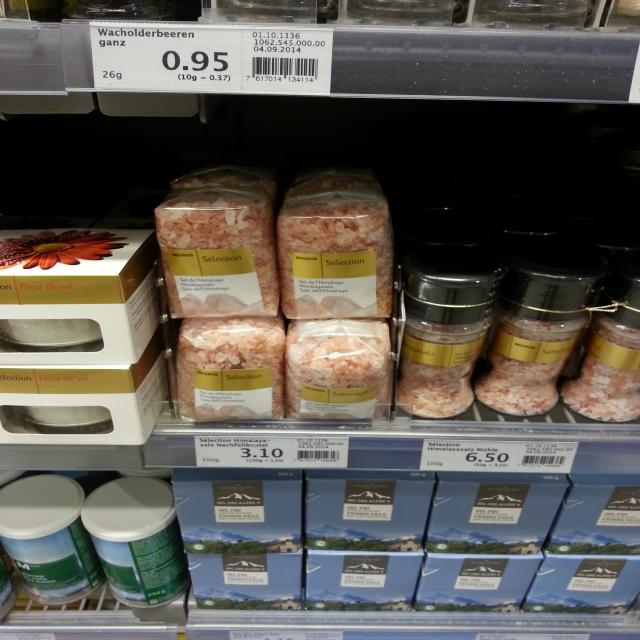Spices: (0, 228, 161, 364), (393, 243, 507, 420), (473, 253, 596, 416), (153, 189, 278, 319), (80, 476, 193, 608), (277, 192, 392, 318), (0, 471, 103, 604), (0, 365, 162, 447), (561, 270, 640, 423), (426, 471, 571, 554), (175, 318, 286, 422), (174, 468, 304, 552), (306, 470, 435, 552), (286, 320, 391, 420), (415, 549, 543, 612), (545, 474, 640, 555), (306, 548, 422, 612), (524, 551, 640, 614), (188, 551, 302, 611)
